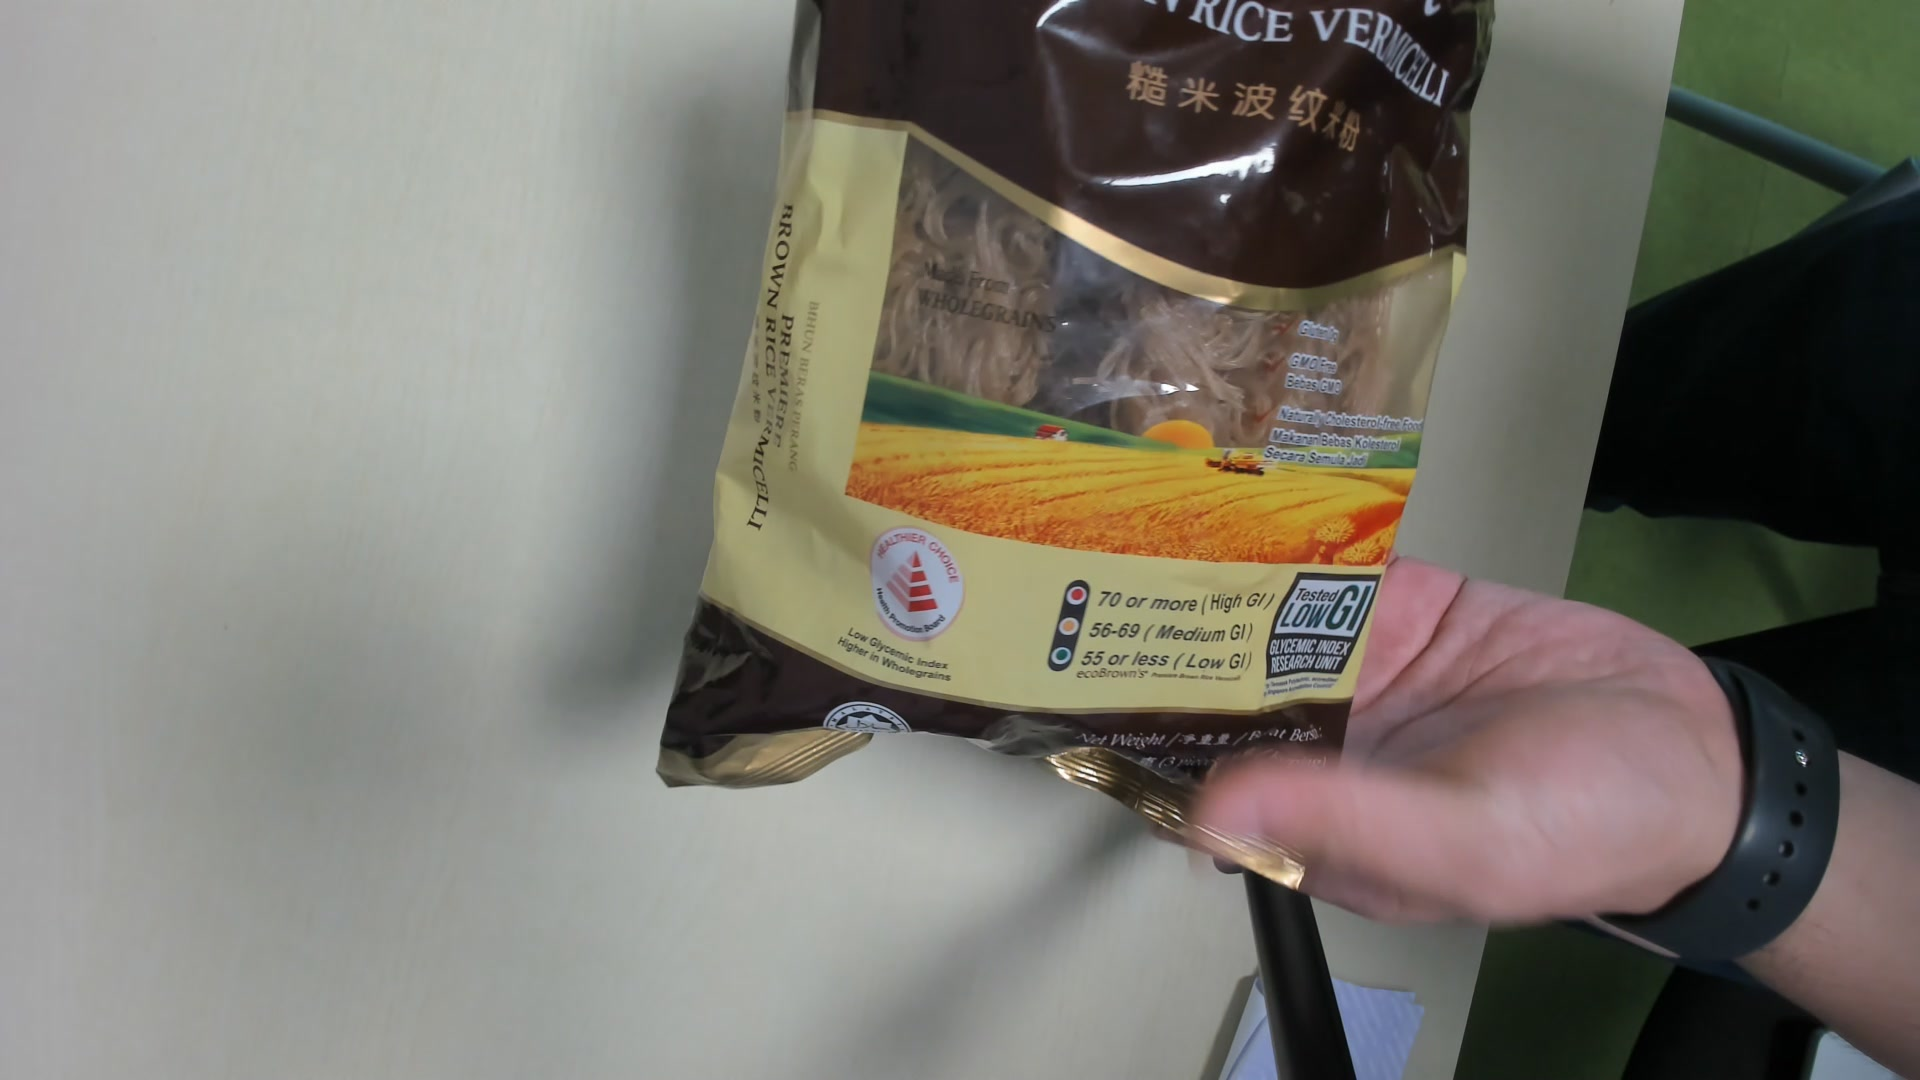BeeHoonVermicelli_300-399g_Halal_Healthy: (690, 7, 1489, 849)
